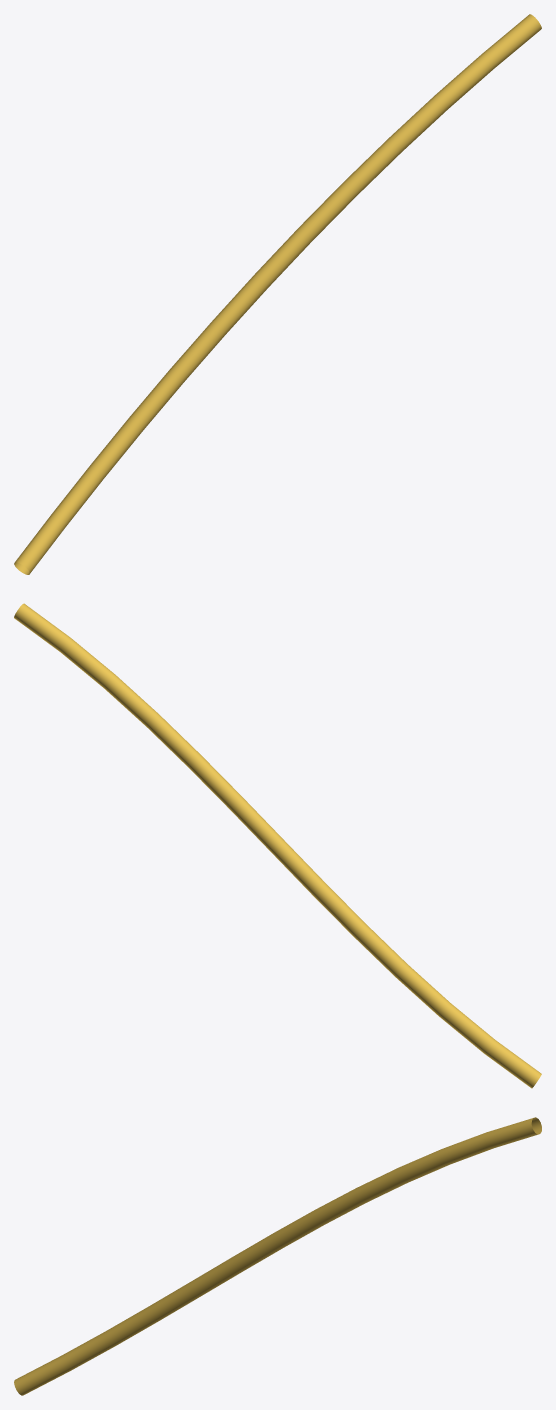
The model's file is Middle_trunk_brachial_plexus_right.glb.
The picture shows the model from 3 angles, top to bottom: view 1: azimuth 30°, elevation 25°; view 2: azimuth 150°, elevation 25°; view 3: azimuth 330°, elevation 25°; orthographic projection. The views are drawn at different scales.
Visible parts, largest first — view 1: Middle_trunk_of_brachial_plexus.r_BezierCurve.504; view 2: Middle_trunk_of_brachial_plexus.r_BezierCurve.504; view 3: Middle_trunk_of_brachial_plexus.r_BezierCurve.504.
Part boxes in pixels (x1,y1,x2,y2): Middle_trunk_of_brachial_plexus.r_BezierCurve.504: (14, 14, 541, 574); Middle_trunk_of_brachial_plexus.r_BezierCurve.504: (14, 603, 541, 1088); Middle_trunk_of_brachial_plexus.r_BezierCurve.504: (14, 1117, 541, 1395).
Size of the model in its own units: 0.0324 by 0.0234 by 0.00349.
